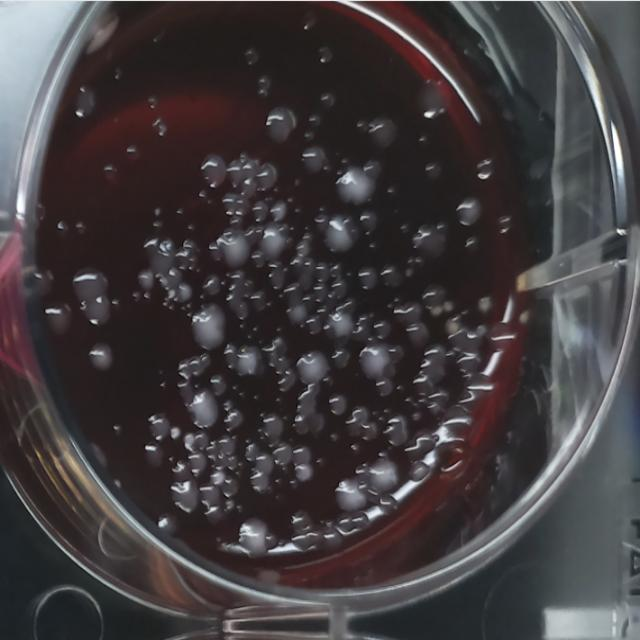Acinetobacter: (332, 163, 374, 210), (190, 306, 229, 354), (235, 512, 271, 558), (218, 228, 253, 274), (331, 473, 368, 515), (255, 221, 290, 265), (358, 339, 392, 383), (325, 213, 356, 256), (294, 350, 329, 388), (369, 457, 401, 497), (233, 341, 264, 382), (325, 307, 358, 345), (367, 114, 400, 150)
Staphylococcus: (210, 470, 227, 488), (168, 424, 182, 442), (182, 431, 196, 448), (167, 288, 176, 300)
Vibrio: (71, 263, 110, 306), (264, 106, 298, 150), (198, 154, 229, 192)
